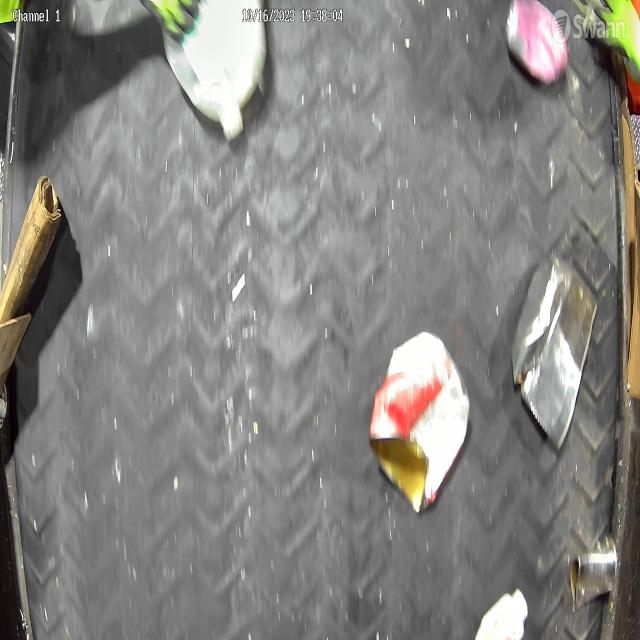can: (367, 328, 473, 518), (509, 252, 598, 452), (503, 0, 570, 88), (570, 532, 618, 612)
milk_jug: (163, 0, 270, 142)
